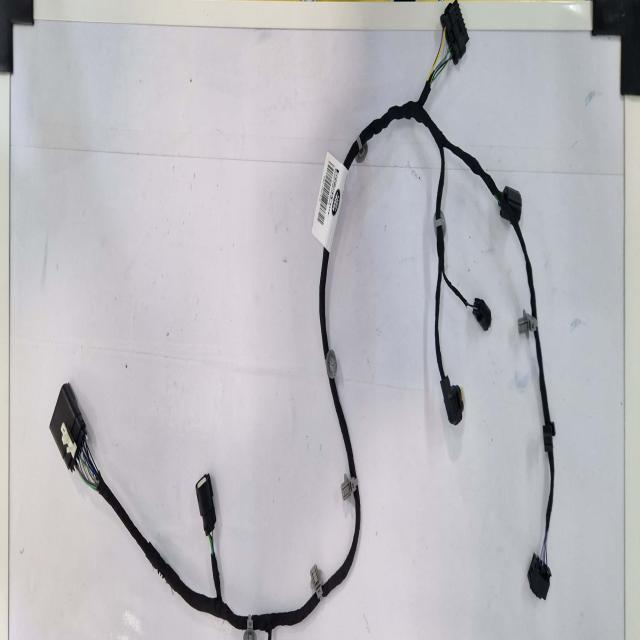Clip: (516, 310, 536, 336), (311, 564, 323, 598), (342, 474, 358, 499), (249, 610, 261, 640), (326, 351, 337, 382), (355, 131, 367, 159), (547, 421, 558, 449), (432, 212, 444, 237)
Connector: (48, 383, 86, 471), (442, 1, 469, 64), (194, 475, 214, 535), (440, 377, 463, 426), (529, 557, 551, 603), (502, 183, 524, 223), (473, 298, 492, 333)
Gape: (445, 17, 475, 84), (80, 432, 108, 498), (205, 519, 218, 559), (540, 529, 553, 565)
Info: (312, 149, 351, 252)
MHEV_N11_Cable: (339, 66, 554, 606), (98, 478, 246, 628), (321, 489, 362, 597), (328, 491, 362, 592), (253, 592, 319, 640), (332, 372, 358, 479), (331, 373, 354, 472), (319, 246, 331, 356), (319, 245, 329, 366)
